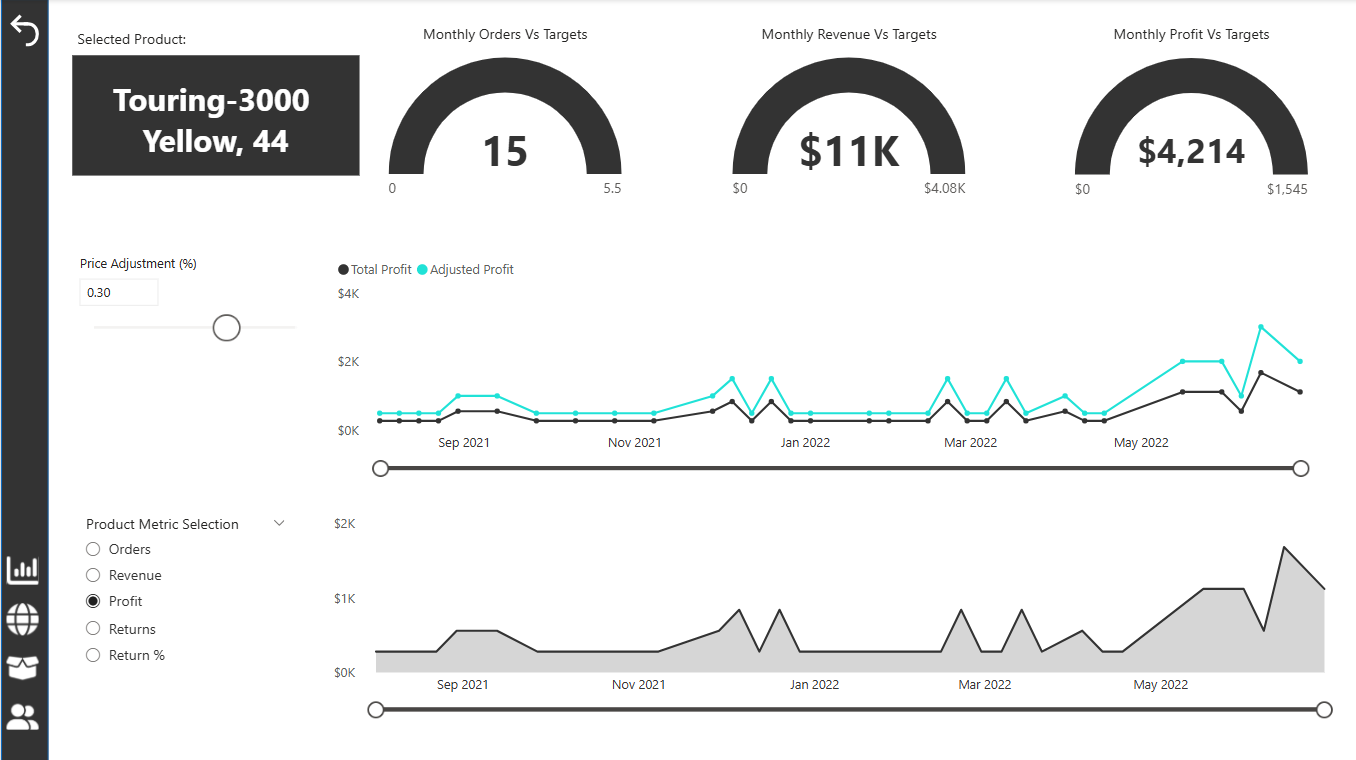

What the dashboard file says about the page in this screenshot:
{"tool":"powerbi","page":{"name":"Product Detail","canvas":[1280,720],"ordinal":2},"visuals":[{"type":"shape","box":[0,0,45,720],"z":0},{"type":"actionButton","box":[1.2,520.4,45.3,38.3],"z":1000,"group":"g1"},{"type":"gauge","title":"Monthly Orders Vs Targets","fields":{"Y":["Measure Table.Total Orders"],"MaxValue":["Measure Table.Order Target"]},"box":[361.2,23.3,230,183.8],"z":1000},{"type":"gauge","title":"Monthly Revenue Vs Targets","fields":{"Y":["Measure Table.Total Revenue"],"MaxValue":["Measure Table.Revenue Target"]},"box":[685.1,23.3,230,183.8],"z":2000},{"type":"actionButton","box":[1.2,566.9,45.3,38.3],"z":2000,"group":"g1"},{"type":"gauge","title":"Monthly Profit Vs Targets","fields":{"Y":["Measure Table.Total Profit"],"MaxValue":["Measure Table.Profit Target"]},"box":[1008.9,23.3,230,184.4],"z":3000},{"type":"actionButton","box":[1.2,612.2,45.3,38.3],"z":3000,"group":"g1"},{"type":"actionButton","box":[1.2,658.6,45.3,38.3],"z":4000,"group":"g1"},{"type":"lineChart","title":"Trends","fields":{"Category":["Calendar Lookup.Date Hierarchy.Year","Calendar Lookup.Date Hierarchy.Start of Month","Calendar Lookup.Date Hierarchy.Start of Week","Calendar Lookup.Date Hierarchy.Date"],"Y":["Measure Table.Total Profit","Measure Table.Adjusted Profit"]},"box":[312.3,236.4,944.8,217.5],"z":4000},{"type":"areaChart","title":"Trends","fields":{"Y":["Measure Table.Total Orders"],"Category":["Calendar Lookup.Date Hierarchy.Year","Calendar Lookup.Date Hierarchy.Start of Month","Calendar Lookup.Date Hierarchy.Start of Week","Calendar Lookup.Date Hierarchy.Date"]},"box":[308.7,482,971.3,200.6],"z":5000},{"type":"card","fields":{"Values":["Min(Product Lookup.ProductName)"]},"box":[67.8,53.3,271.1,113.3],"z":6000},{"type":"textbox","box":[67.8,23.3,135.6,30],"z":7000},{"type":"group","id":"g1","title":"Navigation Buttons","box":[1.2,520.4,45.3,176.6],"z":8000},{"type":"actionButton","box":[2.8,9.7,44.5,40.3],"z":9000},{"type":"slicer","fields":{"Values":["Price Adjustment (%).Price Adjustment (%)"]},"box":[61.3,236.2,239.2,109.4],"z":10000},{"type":"slicer","fields":{"Values":["Product Metric Selection.Product Metric Selection"]},"box":[67.2,482,213.2,196.4],"z":11000}]}

Visuals, with their boxes on the page's 1280x720 design canvas (x1, y1, x2, y2). These are canvas units, not pixel positions in the 1356x760 screenshot, which may show the page scaled, cropped or inside an application window:
shape: x1=0 y1=0 x2=45 y2=720
actionButton: x1=1 y1=520 x2=46 y2=559
"Monthly Orders Vs Targets" gauge: x1=361 y1=23 x2=591 y2=207
"Monthly Revenue Vs Targets" gauge: x1=685 y1=23 x2=915 y2=207
actionButton: x1=1 y1=567 x2=46 y2=605
"Monthly Profit Vs Targets" gauge: x1=1009 y1=23 x2=1239 y2=208
actionButton: x1=1 y1=612 x2=46 y2=650
actionButton: x1=1 y1=659 x2=46 y2=697
"Trends" lineChart: x1=312 y1=236 x2=1257 y2=454
"Trends" areaChart: x1=309 y1=482 x2=1280 y2=683
card - Min(Product Lookup.ProductName): x1=68 y1=53 x2=339 y2=167
textbox: x1=68 y1=23 x2=203 y2=53
"Navigation Buttons" group: x1=1 y1=520 x2=46 y2=697
actionButton: x1=3 y1=10 x2=47 y2=50
slicer - Price Adjustment (%).Price Adjustment (%): x1=61 y1=236 x2=300 y2=346
slicer - Product Metric Selection.Product Metric Selection: x1=67 y1=482 x2=280 y2=678
